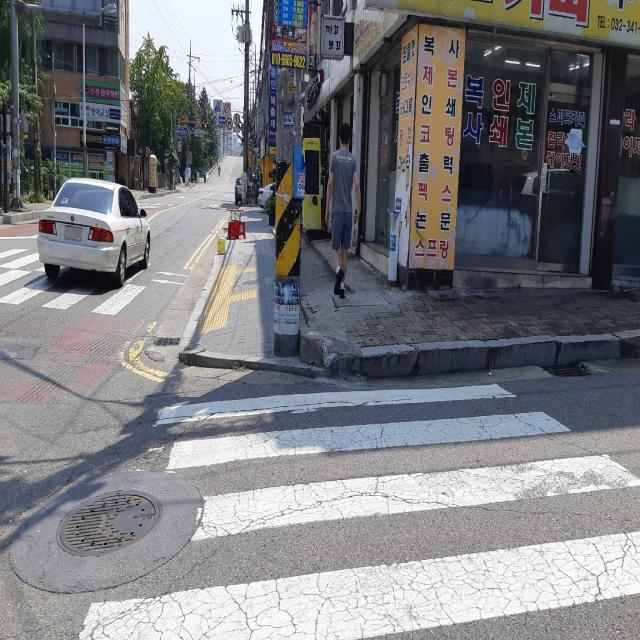횡단보도: (77, 380, 640, 640), (0, 256, 162, 321)
